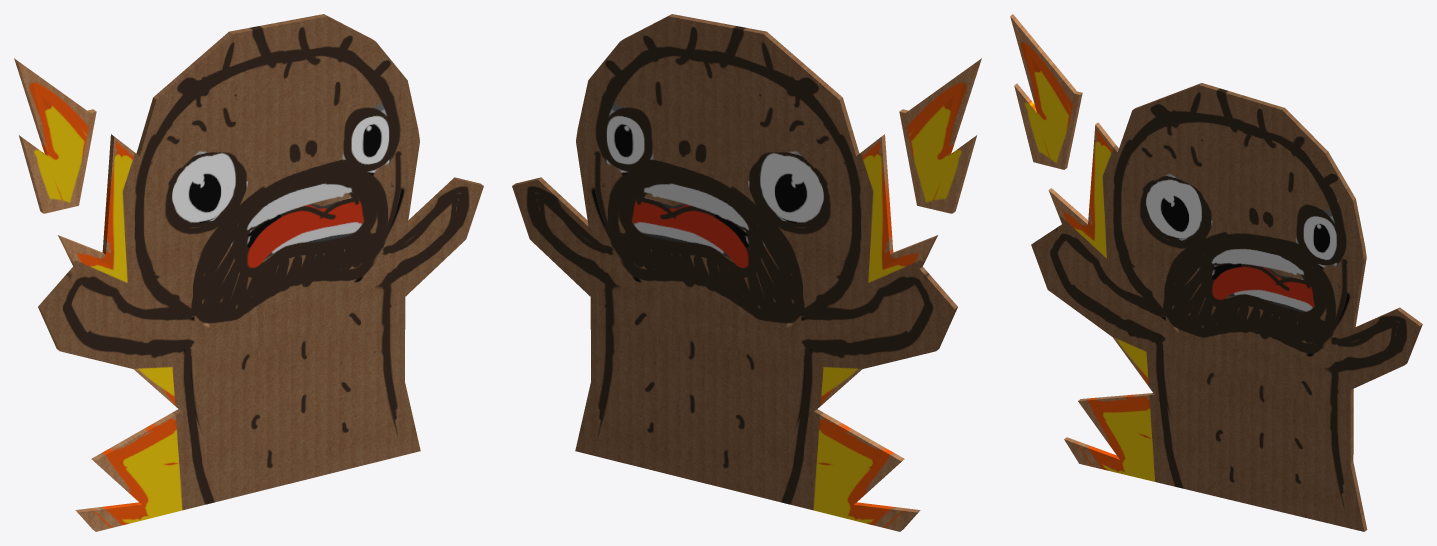
Rendered from guy_2.FBX.
The picture shows the model from 3 angles, left to right: view 1: azimuth 30°, elevation 25°; view 2: azimuth 150°, elevation 25°; view 3: azimuth 330°, elevation 25°; orthographic projection. The views are drawn at different scales.
Visible parts, largest first — view 1: guy_2; view 2: guy_2; view 3: guy_2.
Boxes of the visible parts, left/top/right/bottom form: guy_2: left=14, top=14, right=483, bottom=531; guy_2: left=512, top=14, right=981, bottom=531; guy_2: left=1010, top=14, right=1422, bottom=531.
Bounding box in the file's own units: 564 × 567 × 7.
1 material, 1 textured.
